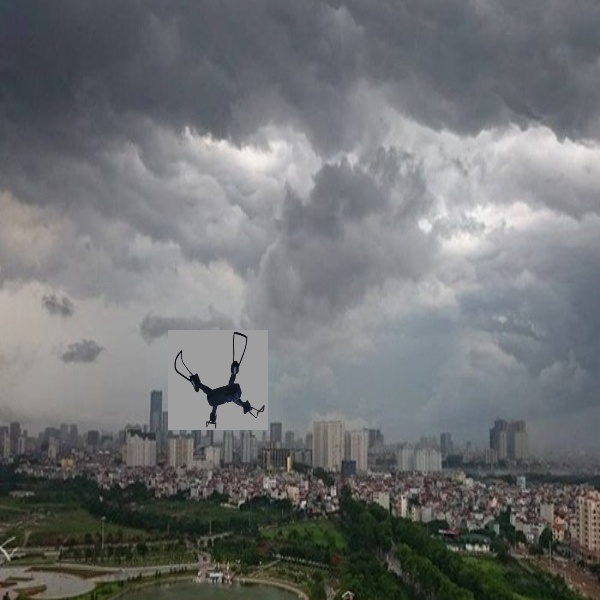drone: (167, 329, 270, 431)
